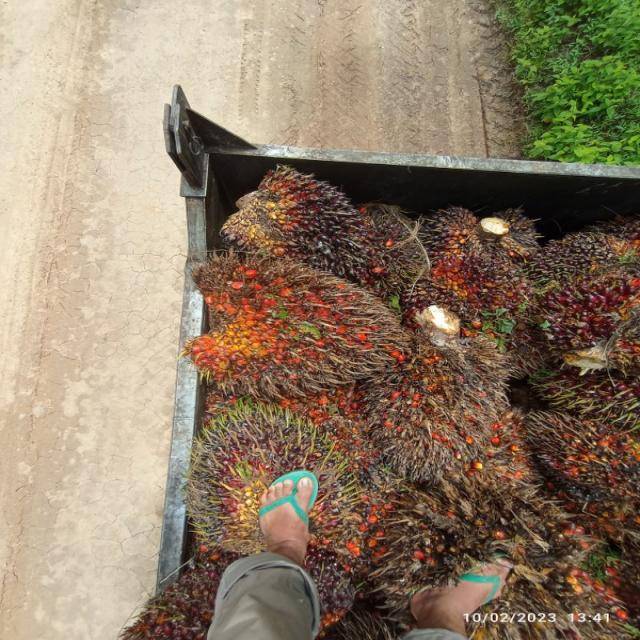fraksi 00: (206, 155, 378, 287), (419, 180, 558, 286), (549, 214, 640, 278)
fraksi 1: (522, 271, 640, 374)
fraksi 4: (178, 232, 435, 411), (346, 299, 516, 476)
